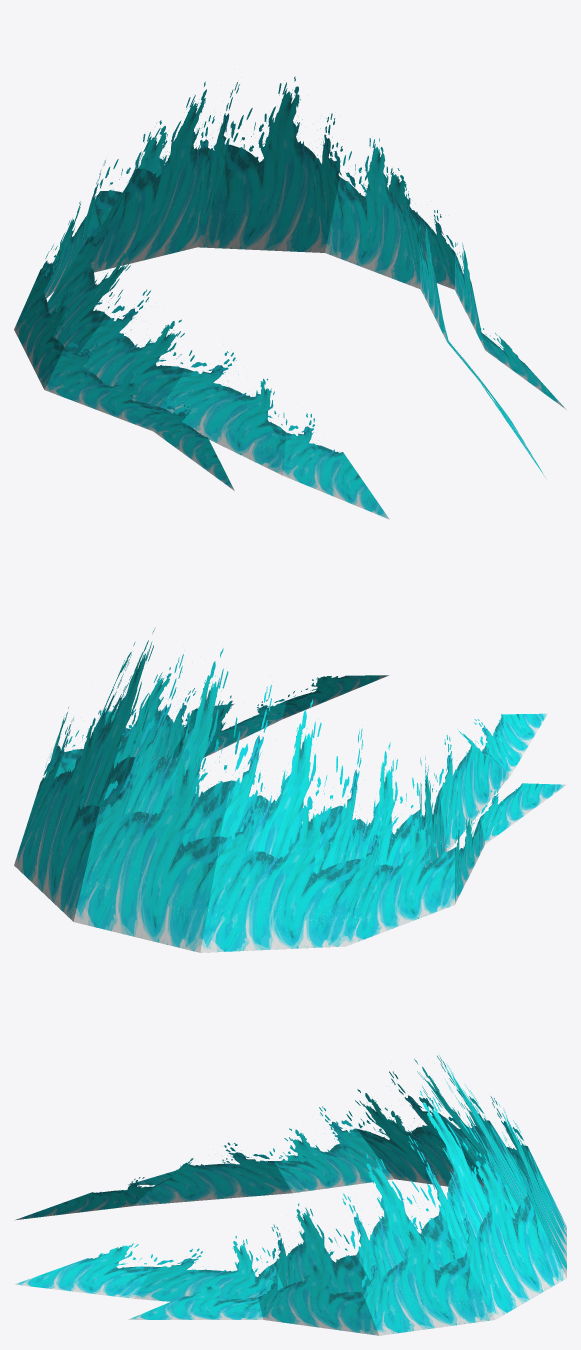
File: horn_footsteps.fbx
The picture shows the model from 3 angles, top to bottom: view 1: azimuth 30°, elevation 25°; view 2: azimuth 150°, elevation 25°; view 3: azimuth 270°, elevation 25°; orthographic projection. The views are drawn at different scales.
Visible parts, largest first — view 1: horn_special_step; view 2: horn_special_step; view 3: horn_special_step.
Boxes of the visible parts, x1,y1,x2,y2 form: horn_special_step: (14,76,566,519); horn_special_step: (14,627,566,952); horn_special_step: (14,1055,566,1335).
Size of the model in its own units: 3.33 by 2.38 by 4.67.
